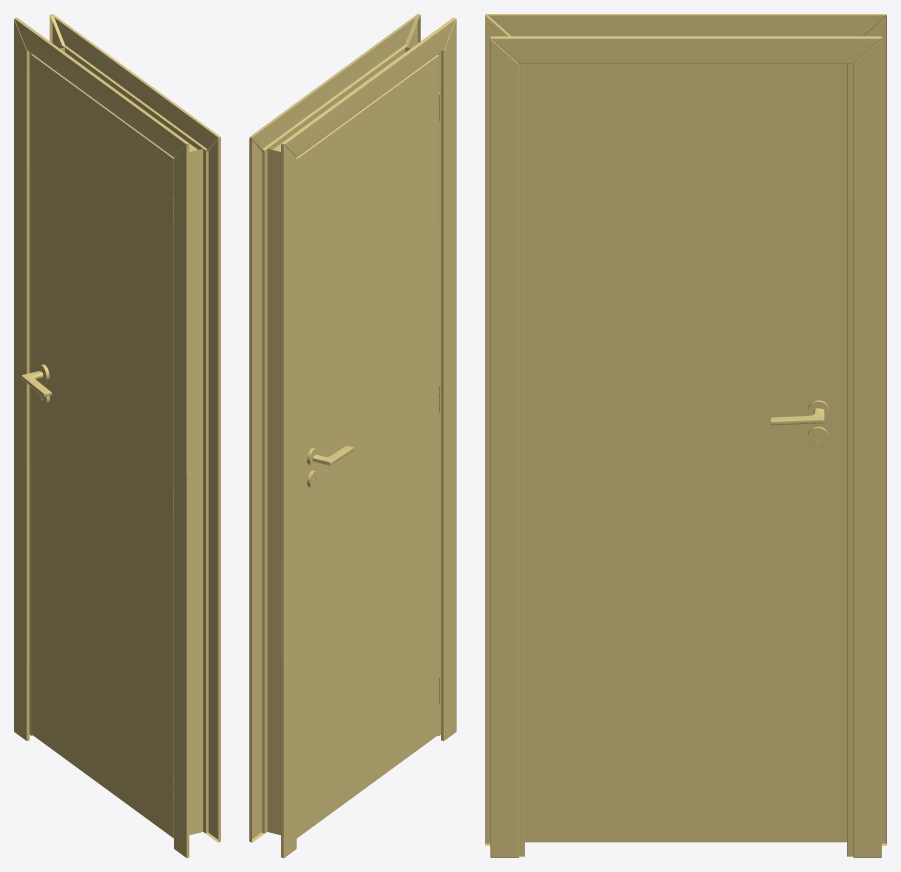
File: Door-Secondary.fbx
3 views of the same model, side by side, from view 1: azimuth 30°, elevation 25°; view 2: azimuth 150°, elevation 25°; view 3: azimuth 270°, elevation 25° (orthographic). The views are drawn at different scales.
Visible parts, largest first — view 1: Door-Secondary-Door; view 2: Door-Secondary-Door; view 3: Door-Secondary-Door.
Part boxes in pixels (left/top/right/bottom): Door-Secondary-Door: left=14, top=14, right=220, bottom=857; Door-Secondary-Door: left=249, top=14, right=456, bottom=857; Door-Secondary-Door: left=485, top=14, right=886, bottom=857.
Bounding box in the file's own units: 18.38 × 221 × 96.72.
